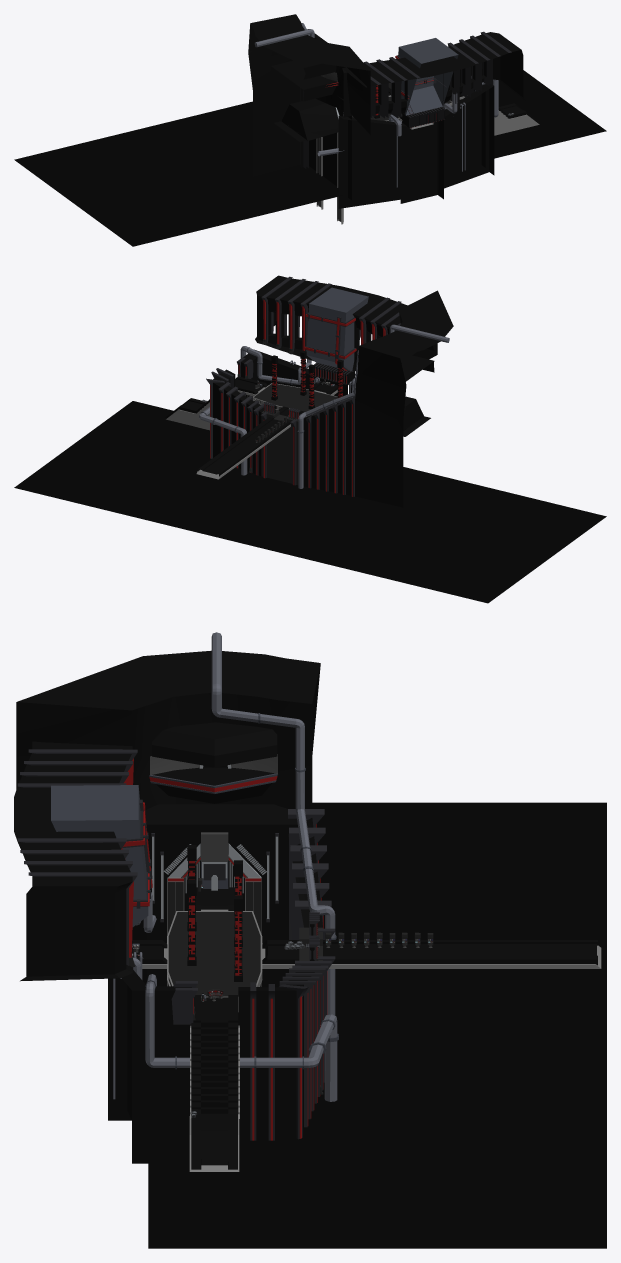
The model's file is killer_killed_boss_room.glb.
3 renders of one model, top to bottom at view 1: azimuth 30°, elevation 25°; view 2: azimuth 150°, elevation 25°; view 3: azimuth 270°, elevation 25°, orthographic. The views are drawn at different scales.
Parts seen in each view (by area): view 1: Background, Wall2, Wall1, Wall3, WallBlock1, Cabine, Tubes, LightWall, Frame, P_Bot6; view 2: Background, Wall2, Wall1, Wall3, WallBlock1, Tubes, P_Top5, PlayableGround, LightWall, Cabine; view 3: Background, Wall2, Wall1, Wall3, Tubes, Cabine, P_Top5, WallBlock1, PlayableGround, Stairs, Frame, P_Top6 (+4 smaller).
Part boxes in pixels (x1,y1,x2,y2): Background: (14, 62, 606, 246); Wall2: (274, 69, 494, 208); Wall1: (248, 14, 370, 176); Wall3: (342, 31, 524, 118); WallBlock1: (395, 38, 458, 115); Cabine: (271, 51, 337, 101); Tubes: (254, 23, 498, 187); LightWall: (402, 107, 445, 127); Frame: (316, 107, 343, 224); P_Bot6: (507, 114, 539, 132); Background: (14, 401, 606, 603); Wall2: (206, 349, 430, 496); Wall1: (355, 290, 453, 507); Wall3: (255, 275, 407, 370); WallBlock1: (304, 287, 368, 371); Tubes: (199, 324, 449, 488); P_Top5: (198, 417, 290, 476); PlayableGround: (253, 384, 345, 412); LightWall: (264, 362, 354, 419); Cabine: (400, 346, 434, 381); Background: (148, 802, 606, 1248); Wall2: (108, 804, 335, 1163); Wall1: (16, 650, 320, 810); Wall3: (14, 741, 137, 981); Tubes: (113, 632, 338, 1101); Cabine: (152, 722, 277, 803); P_Top5: (323, 940, 597, 965); WallBlock1: (51, 785, 152, 926); PlayableGround: (168, 912, 260, 996); Stairs: (191, 1012, 238, 1113); Frame: (167, 832, 261, 986); P_Top6: (191, 1113, 237, 1169).
Size of the model in its own units: 230 by 88.16 by 129.
